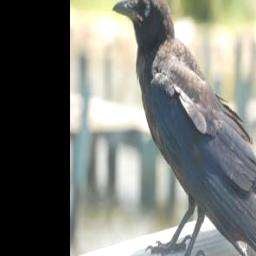Crow: (111, 0, 256, 256)
